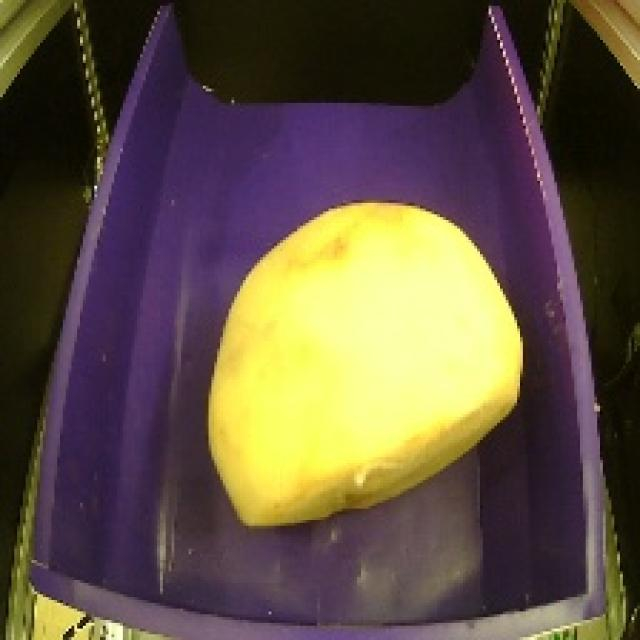full_potato: (195, 185, 533, 537)
